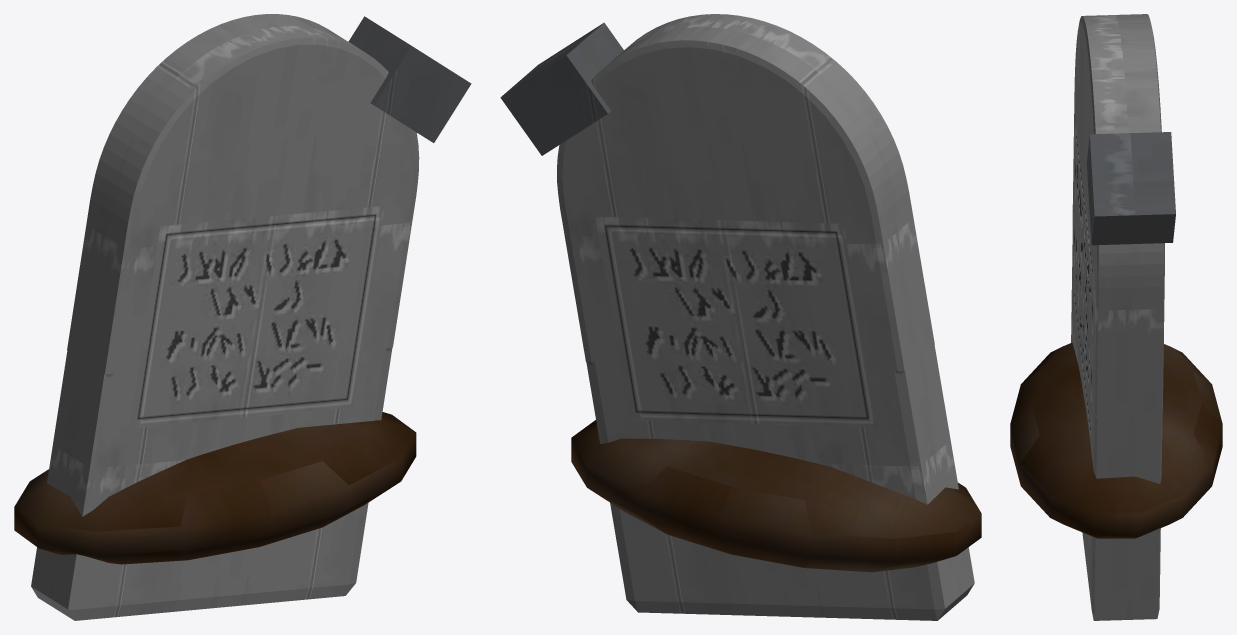
The model's file is tstone5.glb.
3 views of the same model, side by side, from view 1: azimuth 30°, elevation 25°; view 2: azimuth 150°, elevation 25°; view 3: azimuth 270°, elevation 25° (orthographic). The views are drawn at different scales.
Visible parts, largest first — view 1: box; view 2: box; view 3: box.
Boxes of the visible parts, x1,y1,x2,y2 form: box: (14, 14, 471, 620); box: (500, 14, 981, 620); box: (1010, 14, 1222, 620).
Size of the model in its own units: 0.8681 by 1.1 by 0.3817.
Materials: 5 (5 with a texture image).
